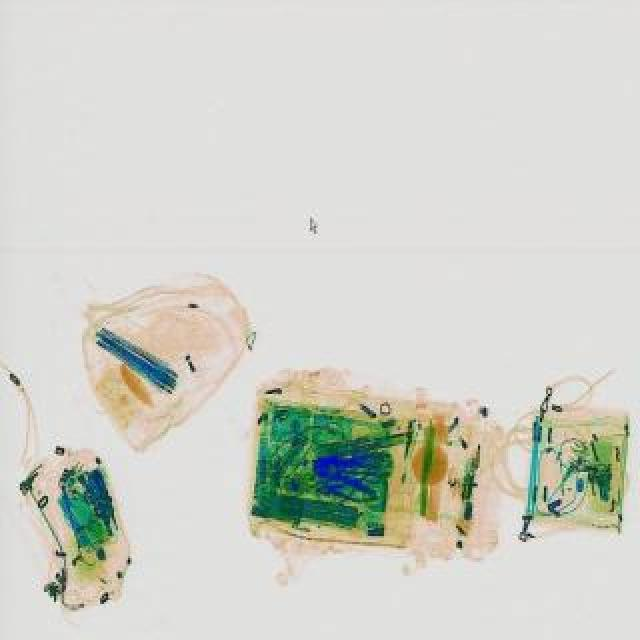wrench: (306, 438, 380, 486), (312, 450, 380, 494), (316, 476, 380, 500)
